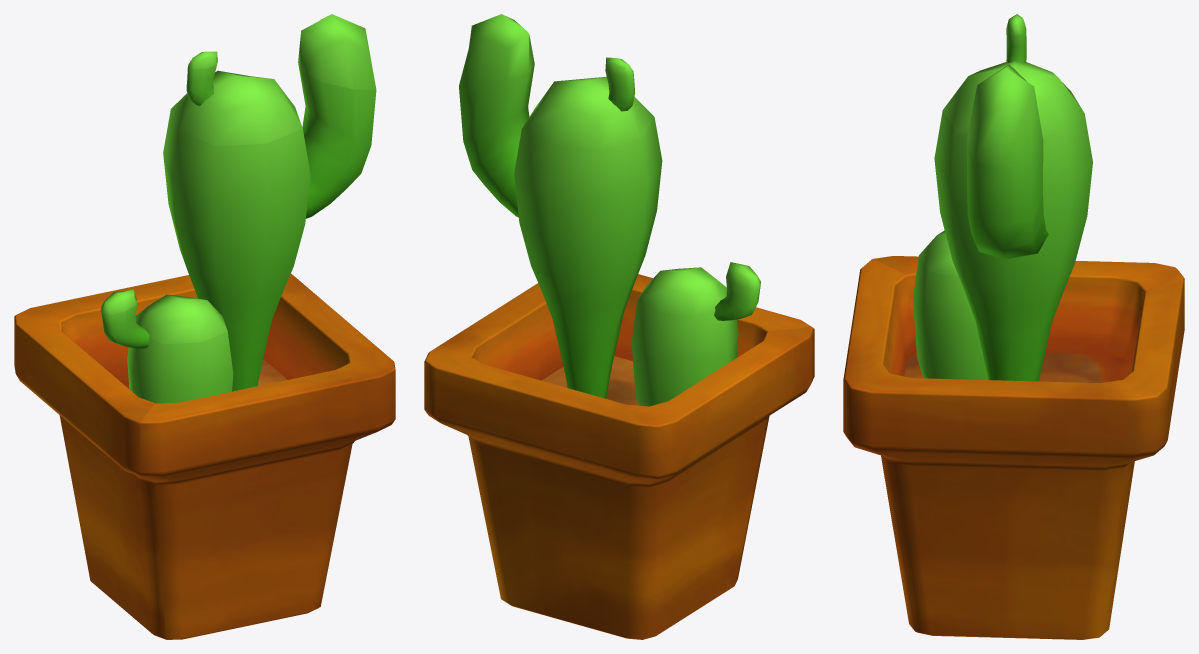
The model's file is Pot_01.fbx.
3 views of the same model, side by side, from view 1: azimuth 30°, elevation 25°; view 2: azimuth 150°, elevation 25°; view 3: azimuth 270°, elevation 25° (orthographic). The views are drawn at different scales.
Visible parts, largest first — view 1: Pot; view 2: Pot; view 3: Pot.
Part boxes in pixels (box(x1,y1,x2,y2)): Pot: box(14, 14, 395, 639); Pot: box(424, 14, 814, 639); Pot: box(843, 14, 1184, 639).
Bounding box in the file's own units: 4.2 × 7.39 × 3.85.
